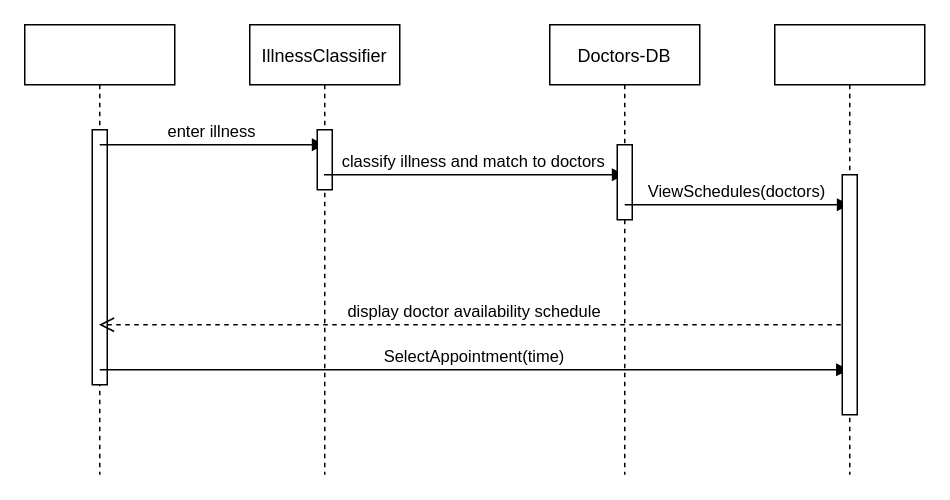
The diagram is 950 pixels wide and 500 high, and some of its shapes have lost their labels. Here are the shapes that lost their labels. From the top down, the box of each, then its label:
(23, 23, 175, 475): Patient
(773, 23, 925, 475): Scheduler
